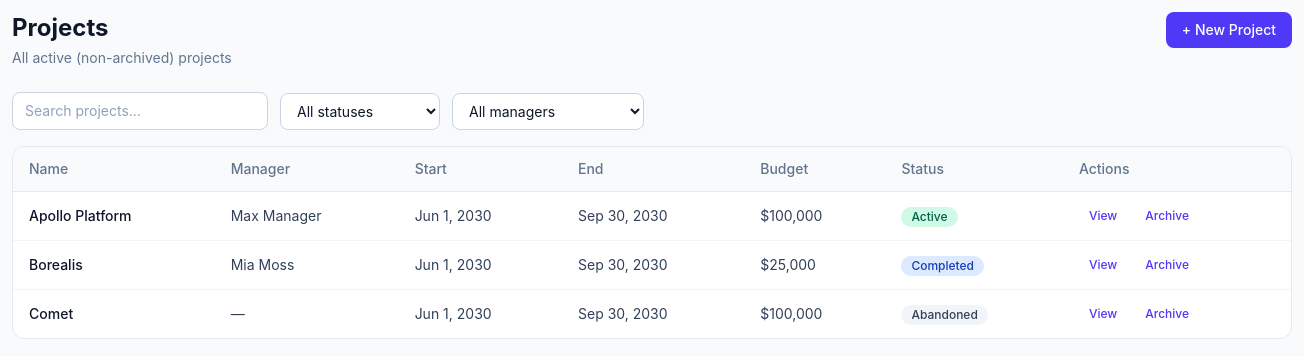
ProjectListPage › as an admin › filters by search text, status and manager
Expected: the text "Apollo Platform" is shown, top-left (29, 207), bottom-right (132, 224)
Type "BORE" into the field with placeholder "Search projects…". click: (140, 111)
box: top-left (12, 92), bottom-right (268, 130)
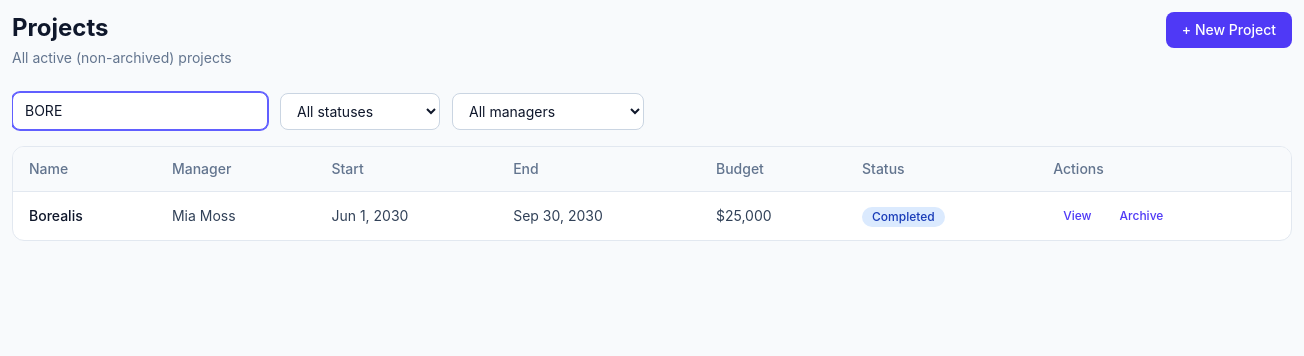
Expected: the text "Borealis" is shown, top-left (29, 207), bottom-right (83, 224)
Expected: the text "Apollo Platform" is gone
Clear the field named "Search projects". click: (140, 111)
box: top-left (12, 92), bottom-right (268, 130)
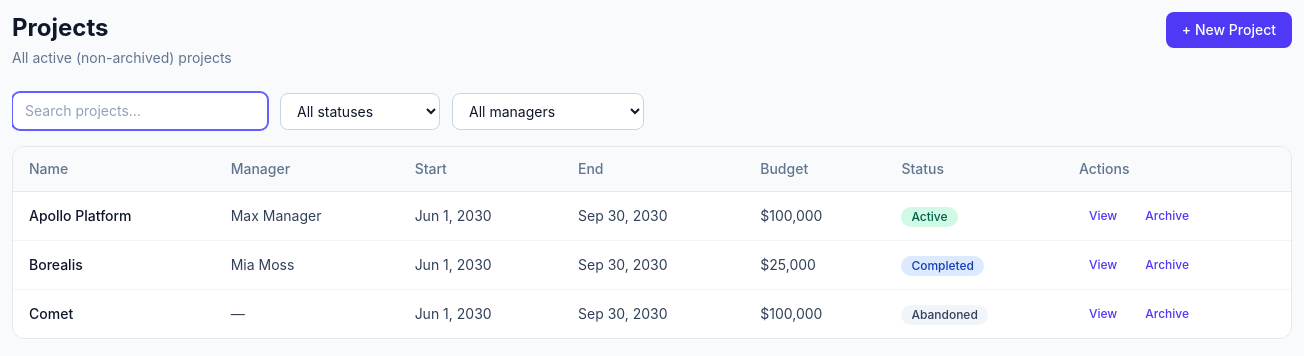
Select "Abandoned" in the dropdown named "Filter by status". click: (360, 112)
box: top-left (280, 93), bottom-right (440, 130)
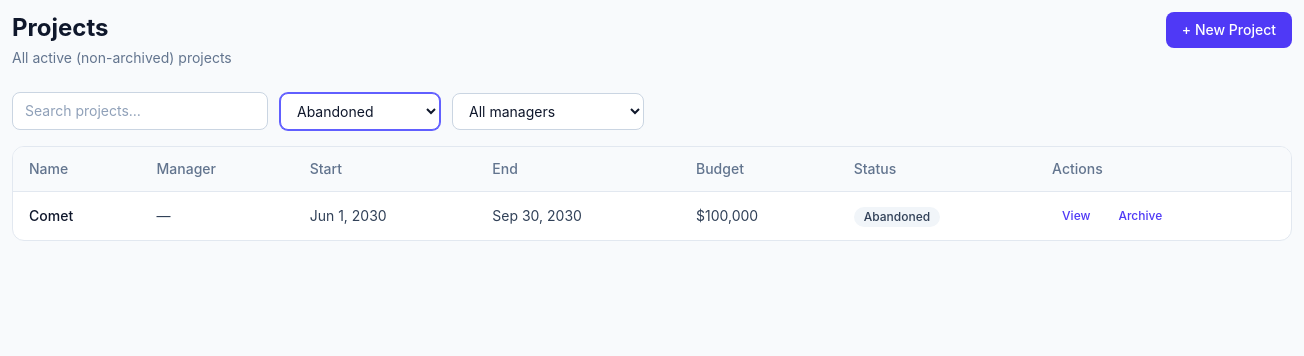
Expected: the text "Comet" is shown, top-left (29, 207), bottom-right (73, 224)
Expected: the text "Borealis" is gone
Select "All statuses" in the dropdown named "Filter by status". click: (360, 112)
box: top-left (280, 93), bottom-right (440, 130)
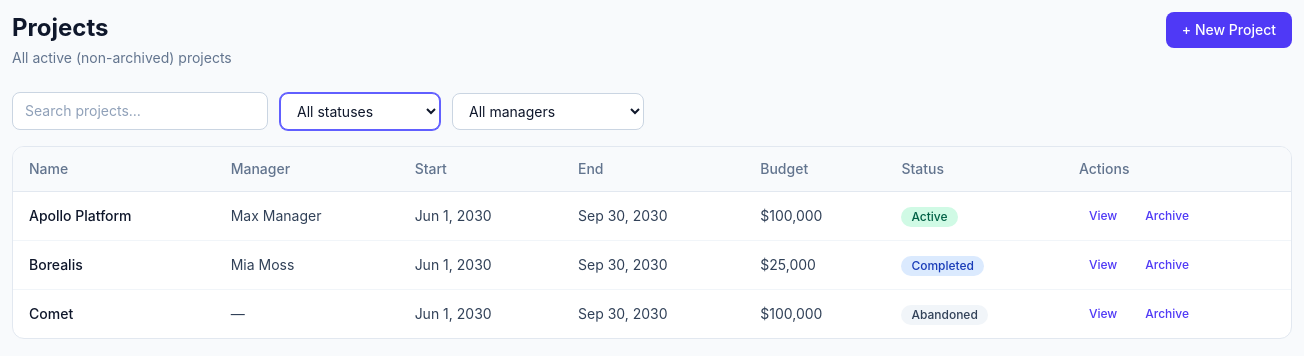
Select "Mia Moss" in the dropdown named "Filter by manager". click: (548, 112)
box: top-left (452, 93), bottom-right (644, 130)
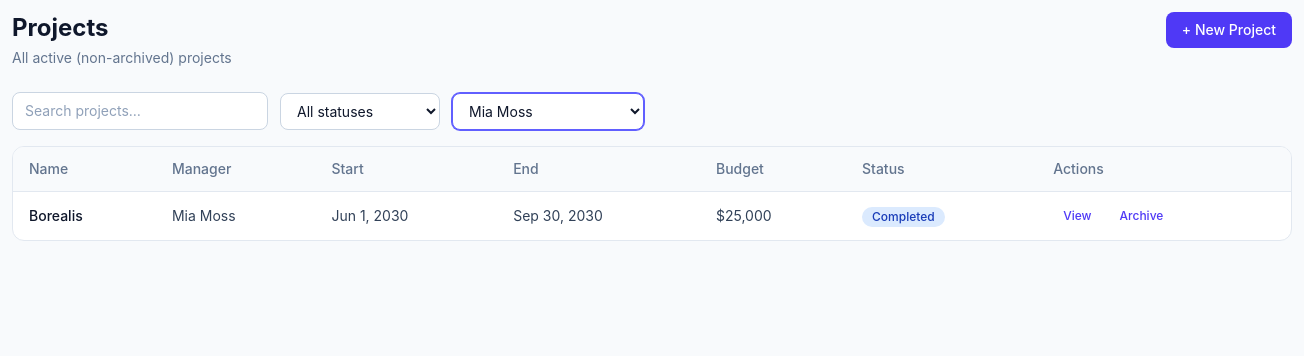
Expected: the text "Borealis" is shown, top-left (29, 207), bottom-right (83, 224)
Expected: the text "Apollo Platform" is gone
Select "Active" in the dropdown named "Filter by status". click: (360, 112)
box: top-left (280, 93), bottom-right (440, 130)
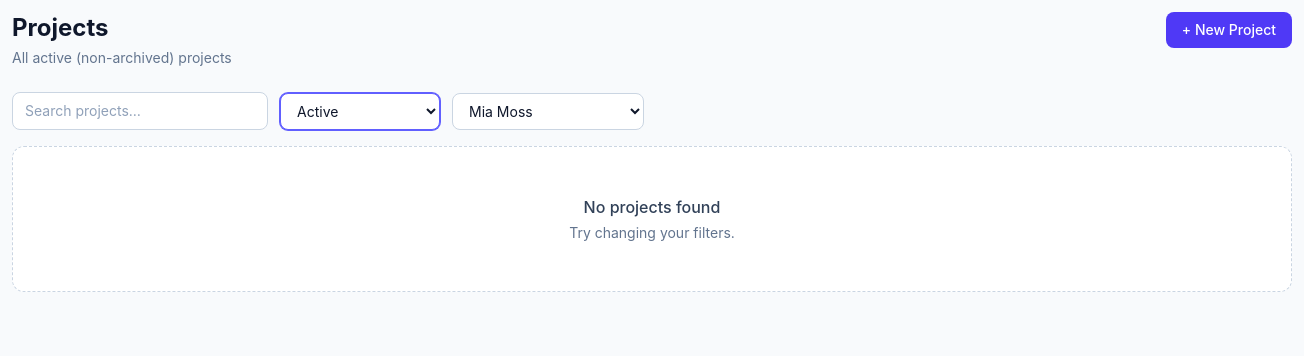
Expected: the text "No projects found" is shown, top-left (584, 197), bottom-right (720, 217)
Expected: the text "Try changing your filters." is shown, top-left (569, 224), bottom-right (735, 241)
